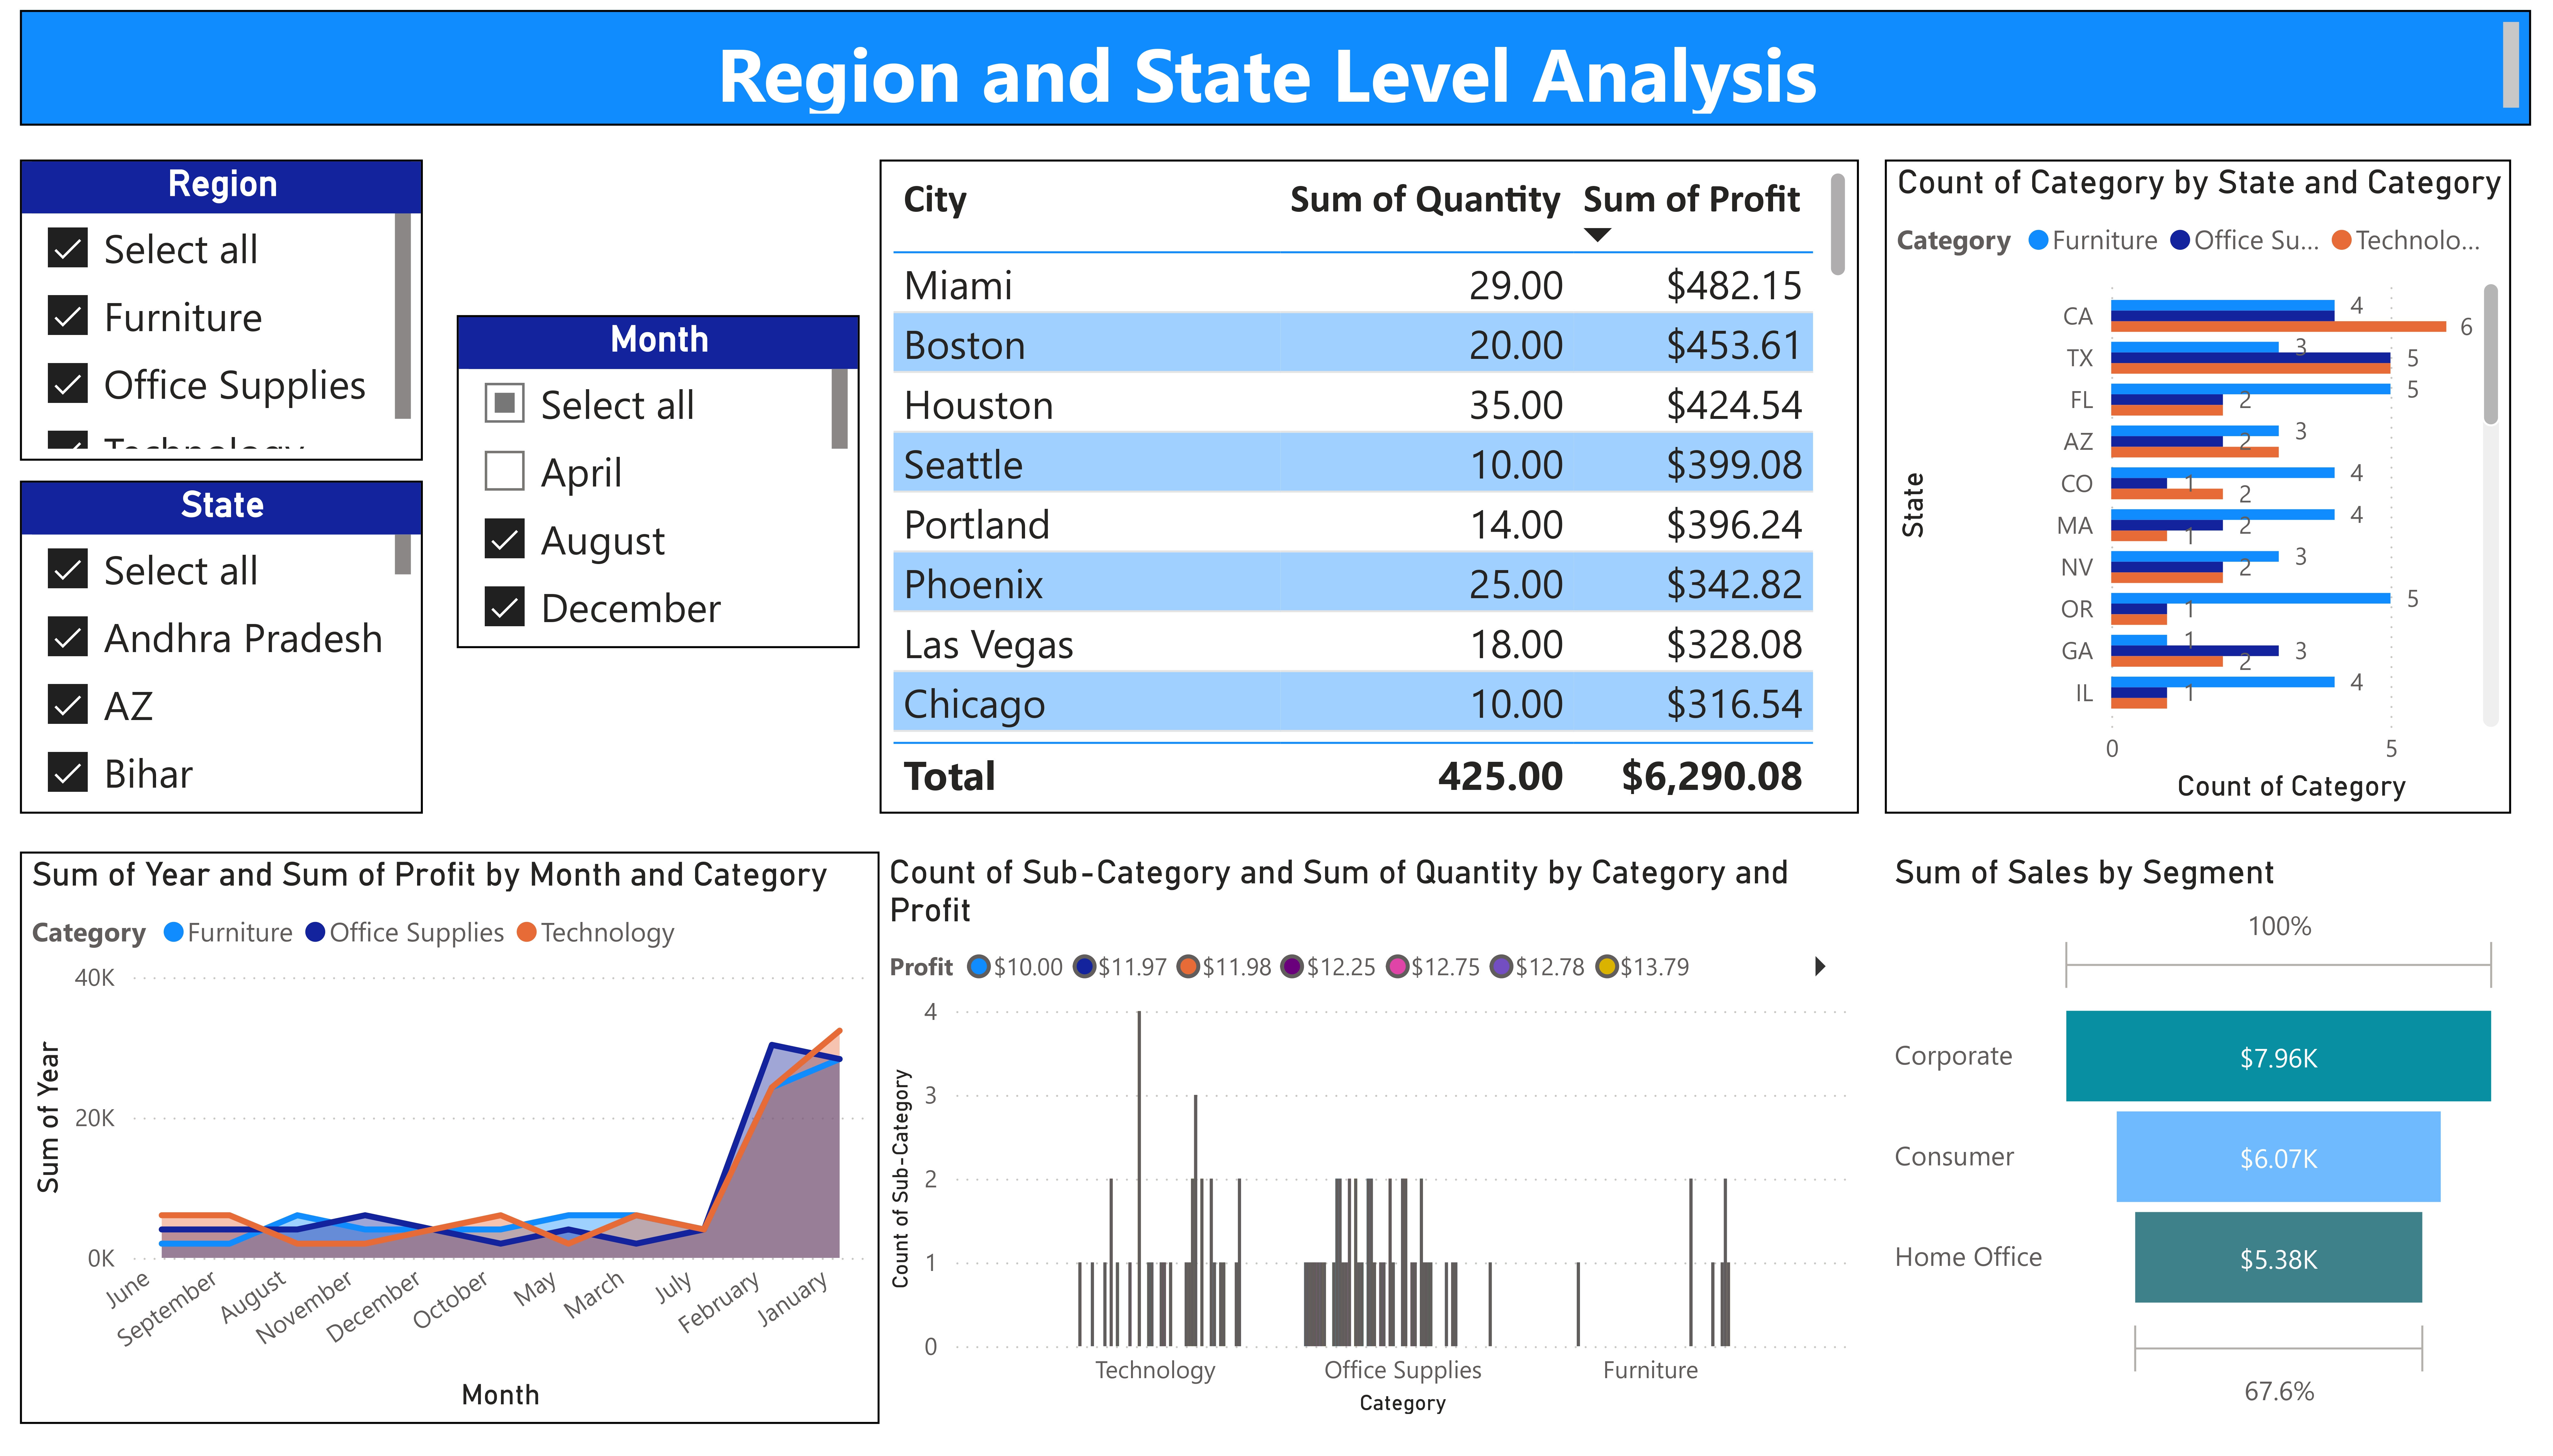

What the dashboard file says about the page in this screenshot:
{"tool":"powerbi","page":{"name":"Region and State","canvas":[1280,720],"ordinal":1},"visuals":[{"type":"textbox","box":[10.1,0,1258.6,57.6],"z":0},{"type":"slicer","title":"Region","fields":{"Values":["Order.Category"]},"box":[10.1,74.9,201.6,151.2],"z":1000},{"type":"slicer","title":"State","fields":{"Values":["Order.State"]},"box":[10.1,236.2,201.6,167],"z":2000},{"type":"slicer","title":"Month","fields":{"Values":["Order.Month"]},"box":[229,152.6,201.6,167],"z":3000},{"type":"tableEx","fields":{"Values":["Order.City","Sum(Order.Quantity)","Sum(Order.Profit)"]},"box":[440.6,74.9,491,328.3],"z":4000},{"type":"clusteredBarChart","fields":{"Category":["Order.State"],"Y":["CountNonNull(Order.Category)"],"Series":["Order.Category"]},"box":[944.6,74.9,313.9,328.3],"z":5000},{"type":"areaChart","fields":{"Series":["Order.Category"],"Y":["Sum(Order.Year)"],"Category":["Order.Month"]},"box":[10.1,421.9,430.6,286.6],"z":6000},{"type":"lineClusteredColumnComboChart","fields":{"Category":["Order.Category"],"Y":["CountNonNull(Order.Sub-Category)"],"Series":["Order.Profit"]},"box":[441,422,491,287],"z":7000},{"type":"funnel","fields":{"Category":["Order.Segment"],"Y":["Sum(Order.Sales)"]},"box":[945,422,314,287],"z":8000}]}

Visuals, with their boxes in screenshot pixels (x1, y1, x2, y2), scaled from the page's 1280x720 canvas onto the 2553x1456 screenshot:
textbox: x1=20 y1=0 x2=2530 y2=116
"Region" slicer: x1=20 y1=152 x2=422 y2=457
"State" slicer: x1=20 y1=478 x2=422 y2=815
"Month" slicer: x1=457 y1=308 x2=859 y2=646
tableEx - Order.City x Sum(Order.Quantity): x1=879 y1=152 x2=1858 y2=815
clusteredBarChart - Order.State x CountNonNull(Order.Category): x1=1884 y1=152 x2=2510 y2=815
areaChart - Order.Category x Sum(Order.Year): x1=20 y1=853 x2=879 y2=1433
lineClusteredColumnComboChart - Order.Category x CountNonNull(Order.Sub-Category): x1=880 y1=853 x2=1859 y2=1434
funnel - Order.Segment x Sum(Order.Sales): x1=1885 y1=853 x2=2511 y2=1434
